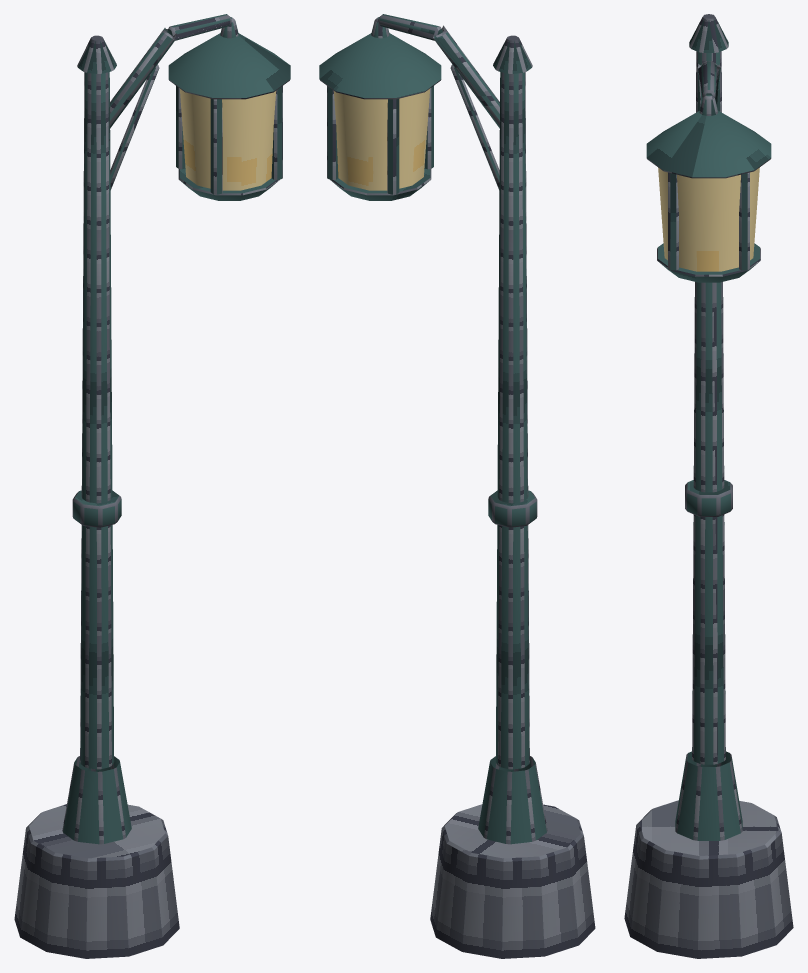
File: street_lamp_3.glb
The picture shows the model from 3 angles, left to right: view 1: azimuth 30°, elevation 25°; view 2: azimuth 150°, elevation 25°; view 3: azimuth 270°, elevation 25°; orthographic projection. The views are drawn at different scales.
Visible parts, largest first — view 1: street_lamp_4; view 2: street_lamp_4; view 3: street_lamp_4.
Boxes of the visible parts, <box> form: street_lamp_4: <box>14,14,290,958</box>; street_lamp_4: <box>319,14,595,958</box>; street_lamp_4: <box>624,14,793,958</box>.
Size of the model in its own units: 0.996 by 3.28 by 0.5552.
Materials: 3 (3 with a texture image).
